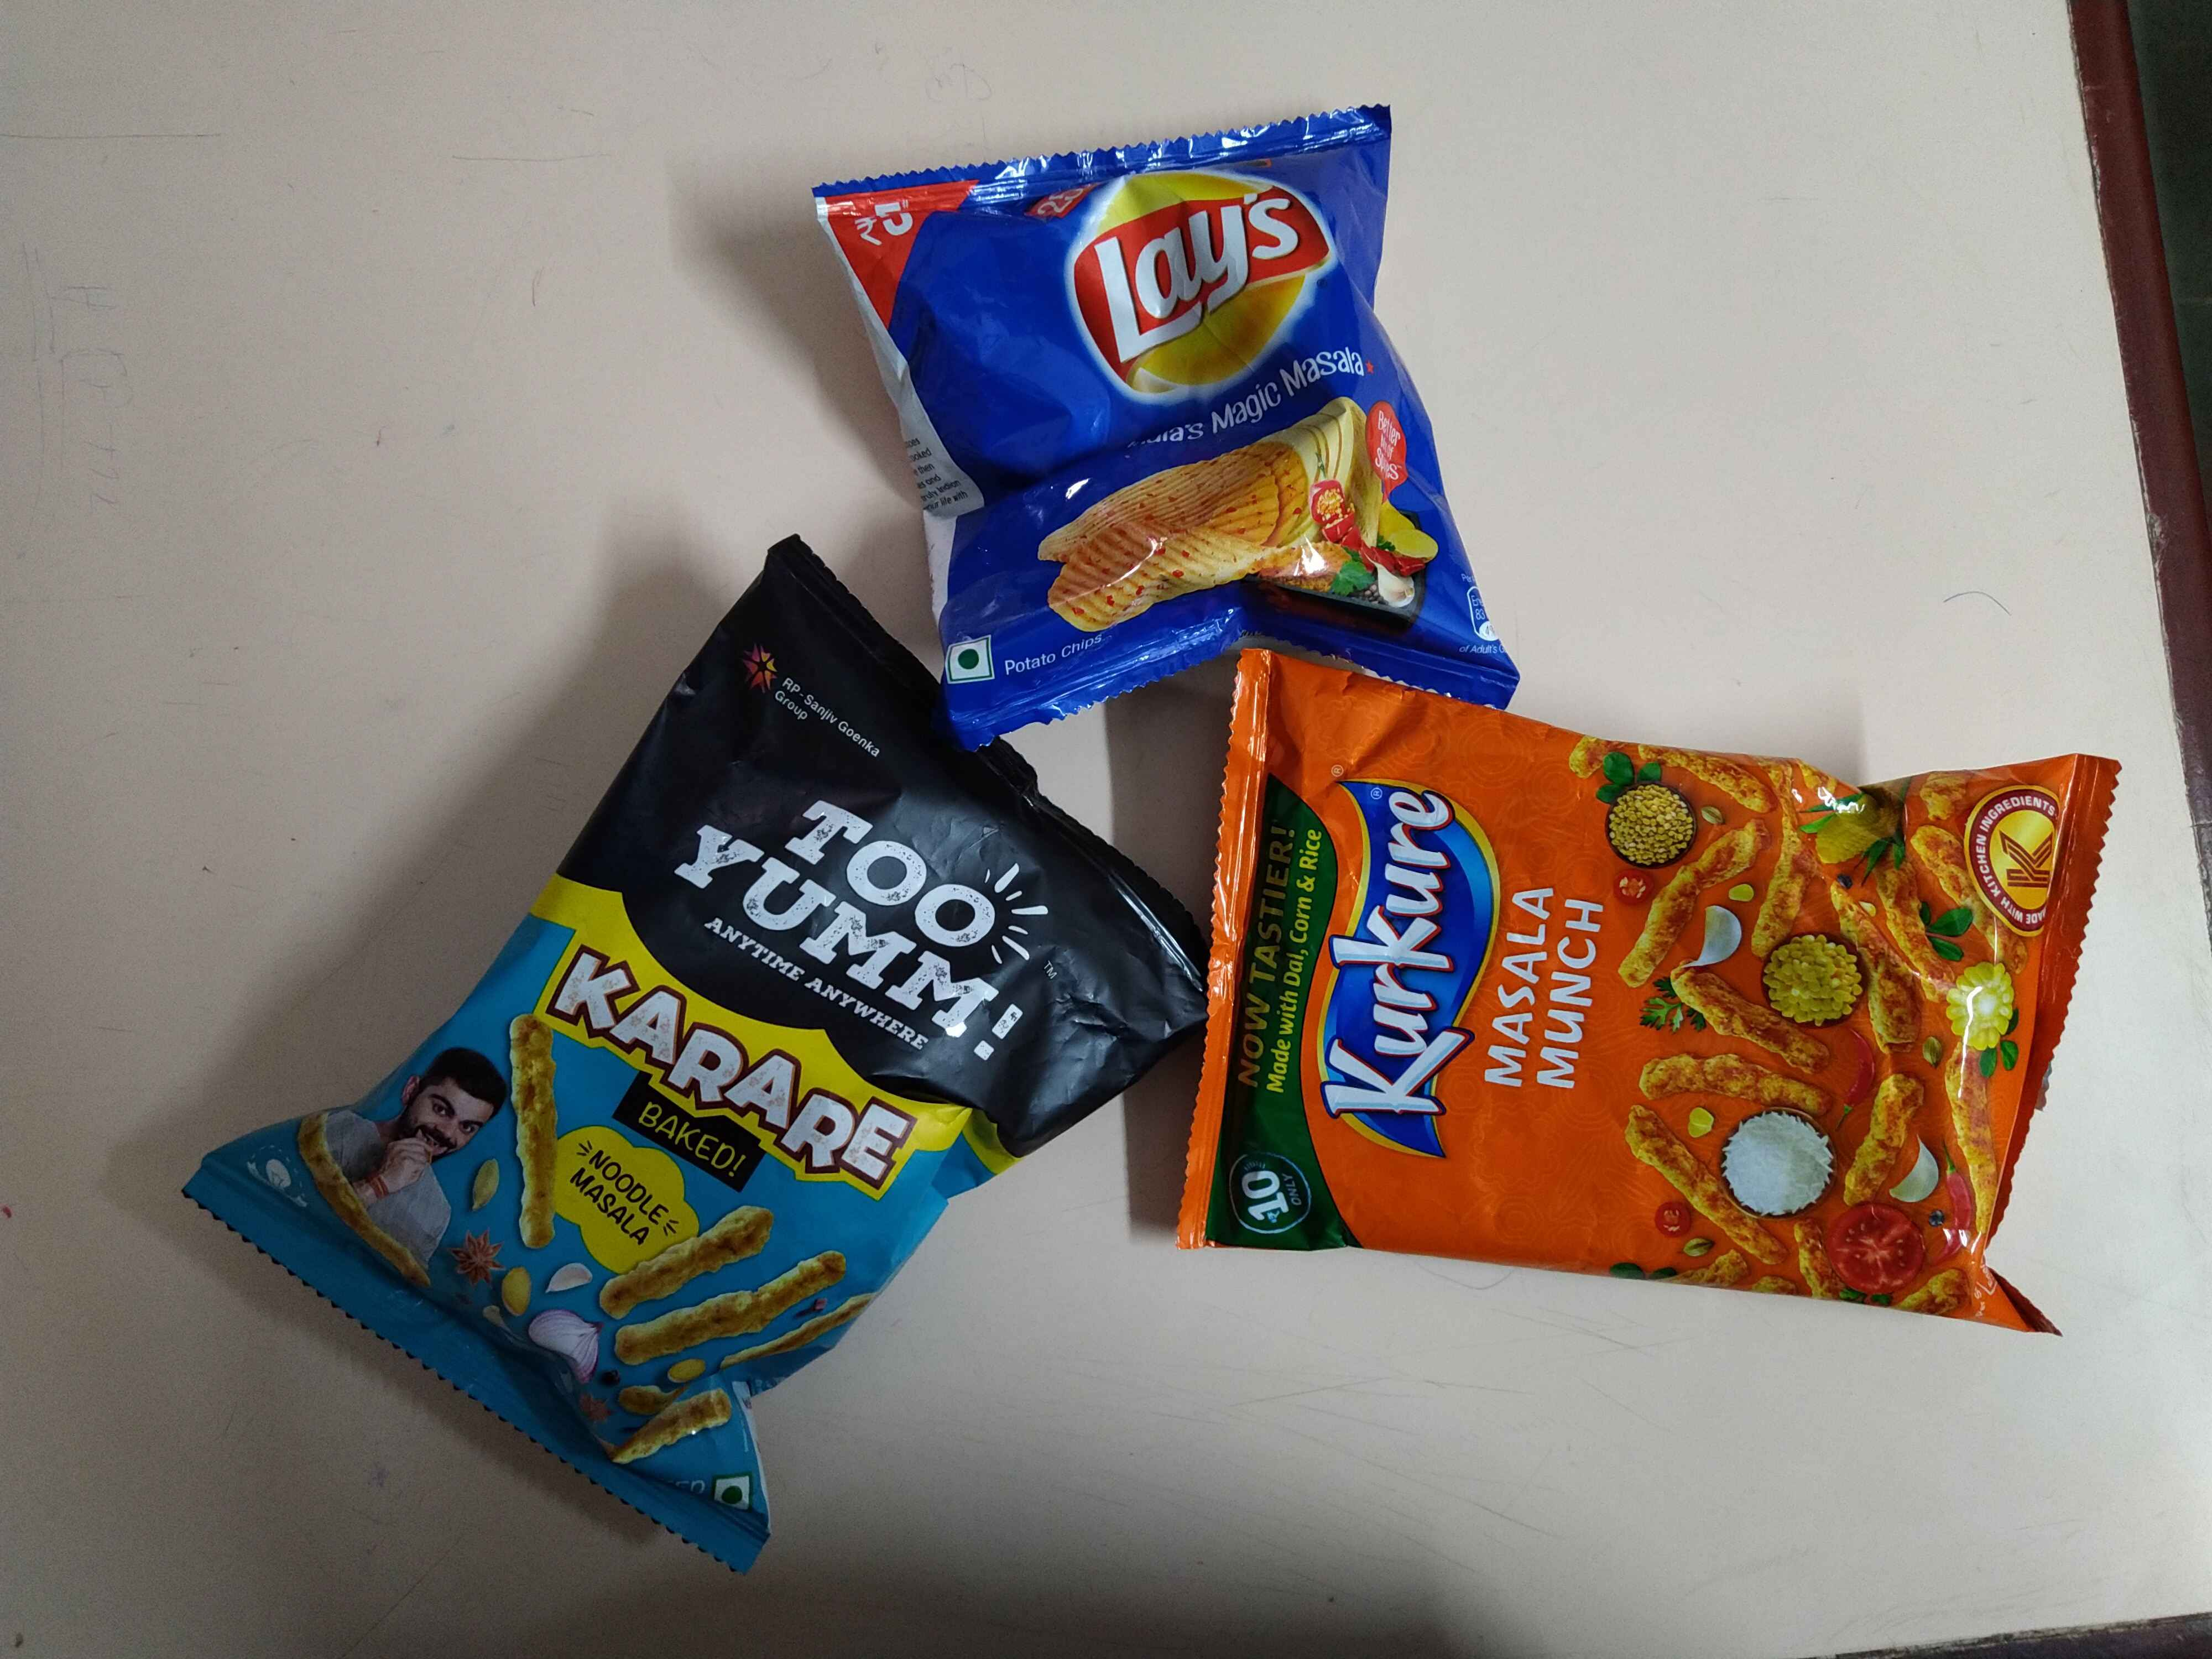Lays: (1071, 150, 1338, 420)
kurkure: (1327, 748, 1500, 1182)
tooyumm: (679, 758, 1055, 1094)
